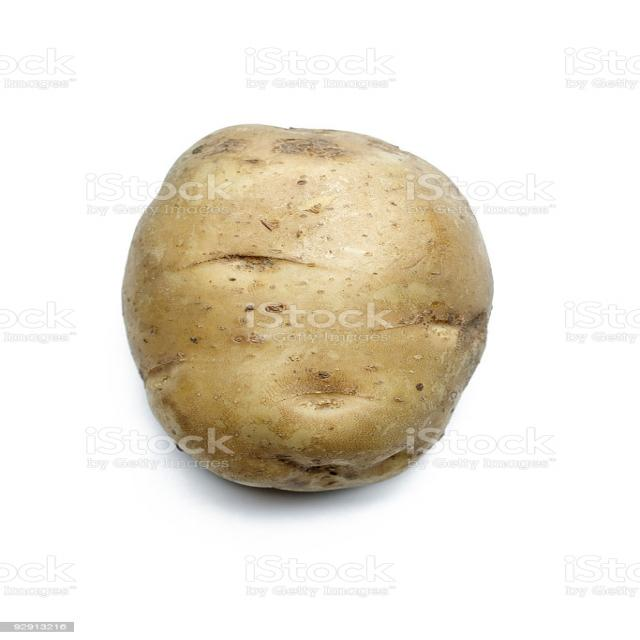potato: (122, 124, 496, 493)
